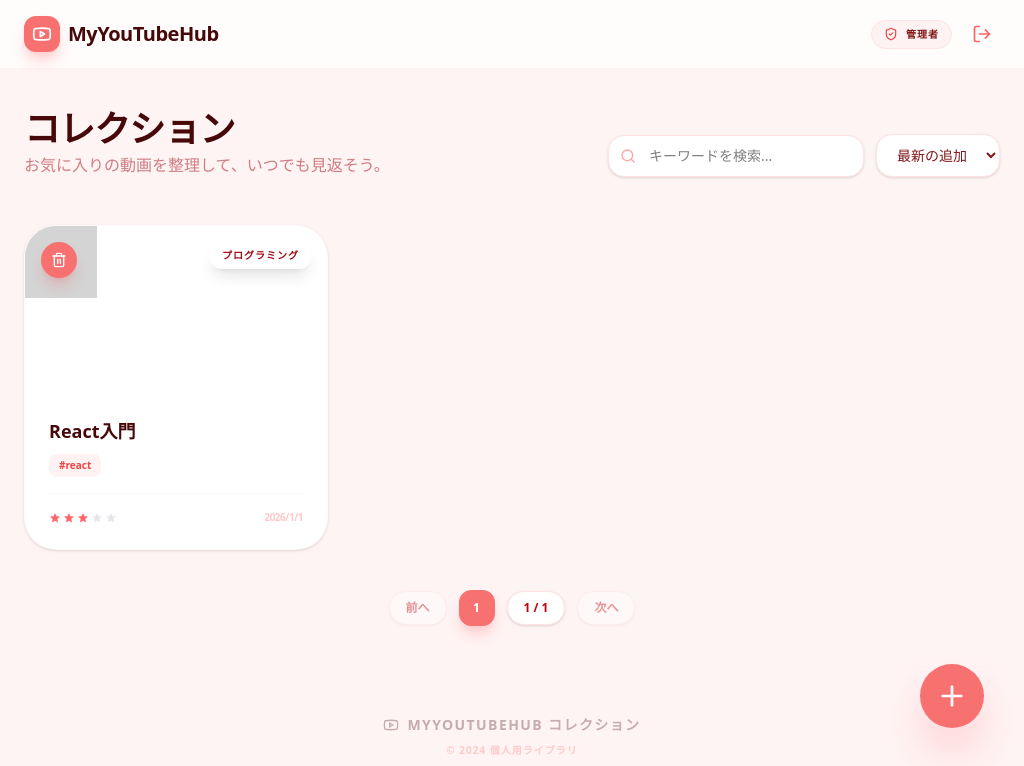
it: Page（FE 統合） › 管理者は FAB から追加フォームを開ける
Expected: the text "管理者" is shown, top-left (906, 26), bottom-right (939, 42)
Step 1. Click the button with class "fixed" → (952, 696), box top-left (920, 664), bottom-right (984, 728)
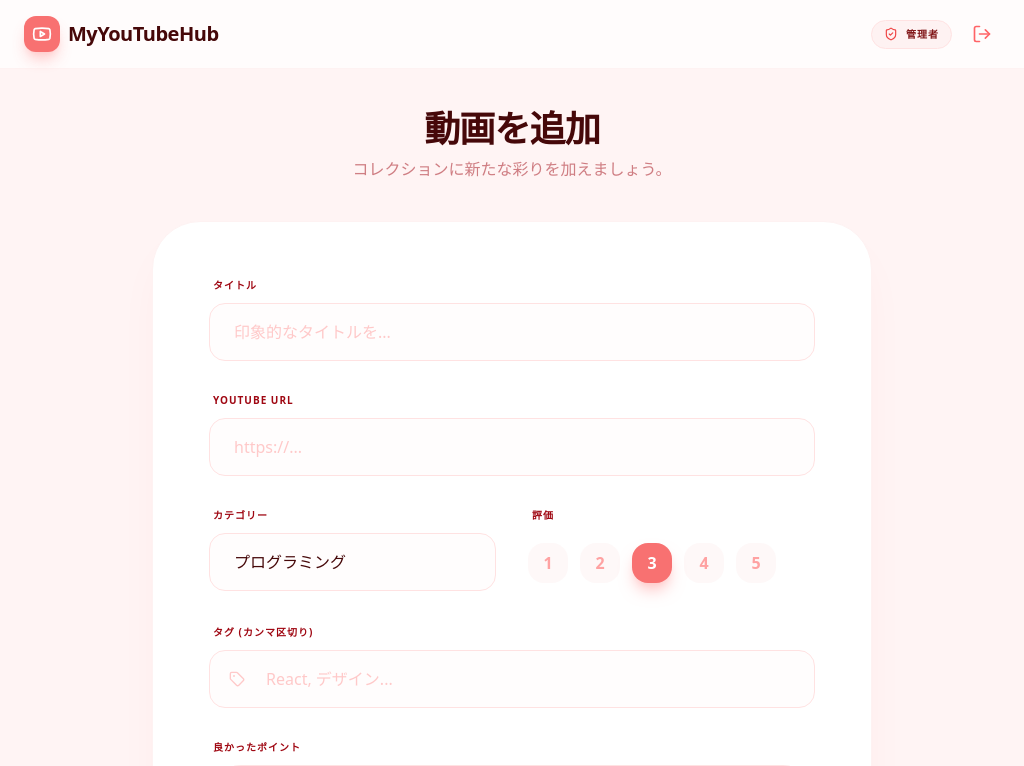
Now the heading "動画を追加" is shown, box top-left (424, 104), bottom-right (600, 153)
